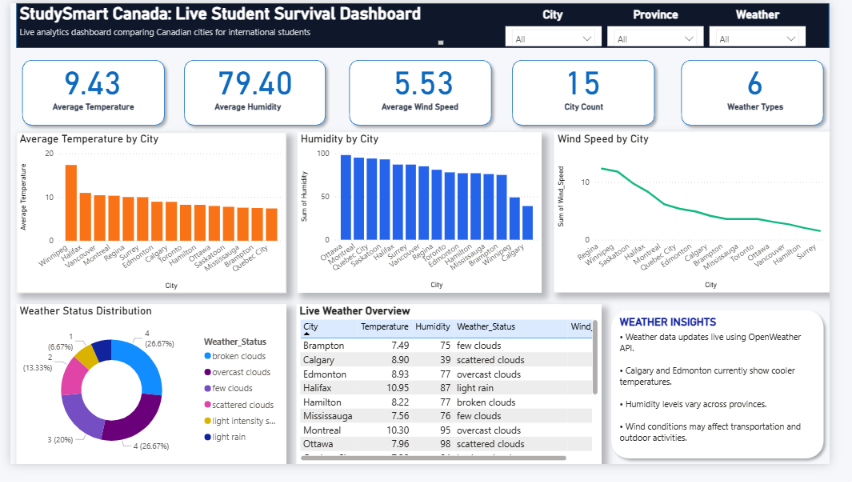

The dashboard page shown, as its layout file describes it:
{"tool":"powerbi","page":{"name":"Weather Analysis","canvas":[1280,720],"ordinal":2},"visuals":[{"type":"shape","box":[9.4,201.6,421.9,250],"z":0},{"type":"clusteredColumnChart","title":"Average Temperature by City","fields":{"Category":["live_weather.City"],"Y":["live_weather.Average Temperature"]},"box":[9.4,201.6,421.9,251.6],"z":1000},{"type":"shape","box":[10,0,1270,70],"z":2000},{"type":"textbox","title":"StudySmart Canada: Live Student Survival Dashboard","box":[9.6,0,672.4,70],"z":3000},{"type":"textbox","title":"City","box":[762.9,0,170,32.9],"z":4000},{"type":"textbox","title":"Province","box":[922.9,0,170,32.9],"z":5000},{"type":"textbox","title":"Weather","box":[1082.9,0,170,32.9],"z":6000},{"type":"slicer","fields":{"Values":["city_student_data.City"]},"box":[772.9,35.7,150,31.4],"z":7000},{"type":"slicer","fields":{"Values":["city_student_data.Province"]},"box":[932.9,35.7,150,31.4],"z":8000},{"type":"slicer","fields":{"Values":["live_weather.Weather_Status"]},"box":[1092.9,35.7,150,31.4],"z":9000},{"type":"shape","box":[262.5,79.7,239.1,120.3],"z":10000},{"type":"shape","box":[9.4,79.7,240.6,120.3],"z":11000},{"type":"shape","box":[1039.1,79.7,240.6,120.3],"z":12000},{"type":"shape","box":[520.3,79.7,240.6,120.3],"z":13000},{"type":"shape","box":[775,79.7,240.6,120.3],"z":14000},{"type":"card","fields":{"Values":["live_weather.Average Temperature"]},"box":[50,92.2,156.2,62.5],"z":15000},{"type":"card","fields":{"Values":["live_weather.Average Humidity"]},"box":[303.1,92.2,157.8,62.5],"z":16000},{"type":"card","fields":{"Values":["live_weather.Average Wind Speed"]},"box":[567.2,92.2,156.2,62.5],"z":17000},{"type":"card","fields":{"Values":["live_weather.Total Cities"]},"box":[815.6,92.2,157.8,62.5],"z":18000},{"type":"card","fields":{"Values":["live_weather.Weather Types"]},"box":[1084.4,92.2,157.8,62.5],"z":19000},{"type":"textbox","title":"Average Temperature","box":[31.2,154.7,196.9,21.9],"z":20000},{"type":"textbox","title":"Average Wind Speed","box":[542.2,154.7,195.3,21.9],"z":21000},{"type":"textbox","title":"Average Humidity","box":[273.4,154.7,195.3,21.9],"z":22000},{"type":"textbox","title":"City Count","box":[798.4,154.7,195.3,21.9],"z":23000},{"type":"textbox","title":"Weather Types","box":[1065.6,154.7,196.9,21.9],"z":24000},{"type":"shape","box":[448.4,201.6,381.2,250],"z":25000},{"type":"shape","box":[848.4,200,431.2,250],"z":26000},{"type":"shape","box":[9.4,470.3,421.9,250],"z":27000},{"type":"shape","box":[446.9,470.3,476.6,250],"z":28000},{"type":"clusteredColumnChart","title":"Humidity by City","fields":{"Category":["live_weather.City"],"Y":["Sum(live_weather.Humidity)"]},"box":[448.4,201.6,381.2,250],"z":29000},{"type":"lineChart","title":"Wind Speed by City","fields":{"Category":["live_weather.City"],"Y":["Sum(live_weather.Wind_Speed)"]},"box":[850,201.6,429.7,250],"z":30000},{"type":"donutChart","title":"Weather Status Distribution","fields":{"Category":["live_weather.Weather_Status"],"Y":["live_weather.Total Cities"]},"box":[9.4,470.3,421.9,250],"z":31000},{"type":"tableEx","title":"Live Weather Overview","fields":{"Values":["live_weather.City","Sum(live_weather.Temperature)","Sum(live_weather.Humidity)","live_weather.Weather_Status","Sum(live_weather.Wind_Speed)"]},"box":[446.9,470.3,476.6,250],"z":32000},{"type":"shape","box":[929.7,470.3,350,250],"z":33000},{"type":"textbox","title":"WEATHER INSIGHTS","box":[946.9,487.5,315.6,215.6],"z":34000}]}

Visuals, with their boxes in screenshot pixels (x1, y1, x2, y2), scaled from the page's 1280x720 canvas onto the 852x482 screenshot:
shape: [x1=6, y1=135, x2=287, y2=302]
"Average Temperature by City" clusteredColumnChart: [x1=6, y1=135, x2=287, y2=303]
shape: [x1=7, y1=0, x2=851, y2=47]
"StudySmart Canada: Live Student Survival Dashboard" textbox: [x1=6, y1=0, x2=454, y2=47]
"City" textbox: [x1=508, y1=0, x2=621, y2=22]
"Province" textbox: [x1=614, y1=0, x2=727, y2=22]
"Weather" textbox: [x1=721, y1=0, x2=834, y2=22]
slicer - city_student_data.City: [x1=514, y1=24, x2=614, y2=45]
slicer - city_student_data.Province: [x1=621, y1=24, x2=721, y2=45]
slicer - live_weather.Weather_Status: [x1=727, y1=24, x2=827, y2=45]
shape: [x1=175, y1=53, x2=334, y2=134]
shape: [x1=6, y1=53, x2=166, y2=134]
shape: [x1=692, y1=53, x2=851, y2=134]
shape: [x1=346, y1=53, x2=506, y2=134]
shape: [x1=516, y1=53, x2=676, y2=134]
card - live_weather.Average Temperature: [x1=33, y1=62, x2=137, y2=104]
card - live_weather.Average Humidity: [x1=202, y1=62, x2=307, y2=104]
card - live_weather.Average Wind Speed: [x1=378, y1=62, x2=482, y2=104]
card - live_weather.Total Cities: [x1=543, y1=62, x2=648, y2=104]
card - live_weather.Weather Types: [x1=722, y1=62, x2=827, y2=104]
"Average Temperature" textbox: [x1=21, y1=104, x2=152, y2=118]
"Average Wind Speed" textbox: [x1=361, y1=104, x2=491, y2=118]
"Average Humidity" textbox: [x1=182, y1=104, x2=312, y2=118]
"City Count" textbox: [x1=531, y1=104, x2=661, y2=118]
"Weather Types" textbox: [x1=709, y1=104, x2=840, y2=118]
shape: [x1=298, y1=135, x2=552, y2=302]
shape: [x1=565, y1=134, x2=851, y2=301]
shape: [x1=6, y1=315, x2=287, y2=481]
shape: [x1=297, y1=315, x2=615, y2=481]
"Humidity by City" clusteredColumnChart: [x1=298, y1=135, x2=552, y2=302]
"Wind Speed by City" lineChart: [x1=566, y1=135, x2=851, y2=302]
"Weather Status Distribution" donutChart: [x1=6, y1=315, x2=287, y2=481]
"Live Weather Overview" tableEx: [x1=297, y1=315, x2=615, y2=481]
shape: [x1=619, y1=315, x2=851, y2=481]
"WEATHER INSIGHTS" textbox: [x1=630, y1=326, x2=840, y2=471]
